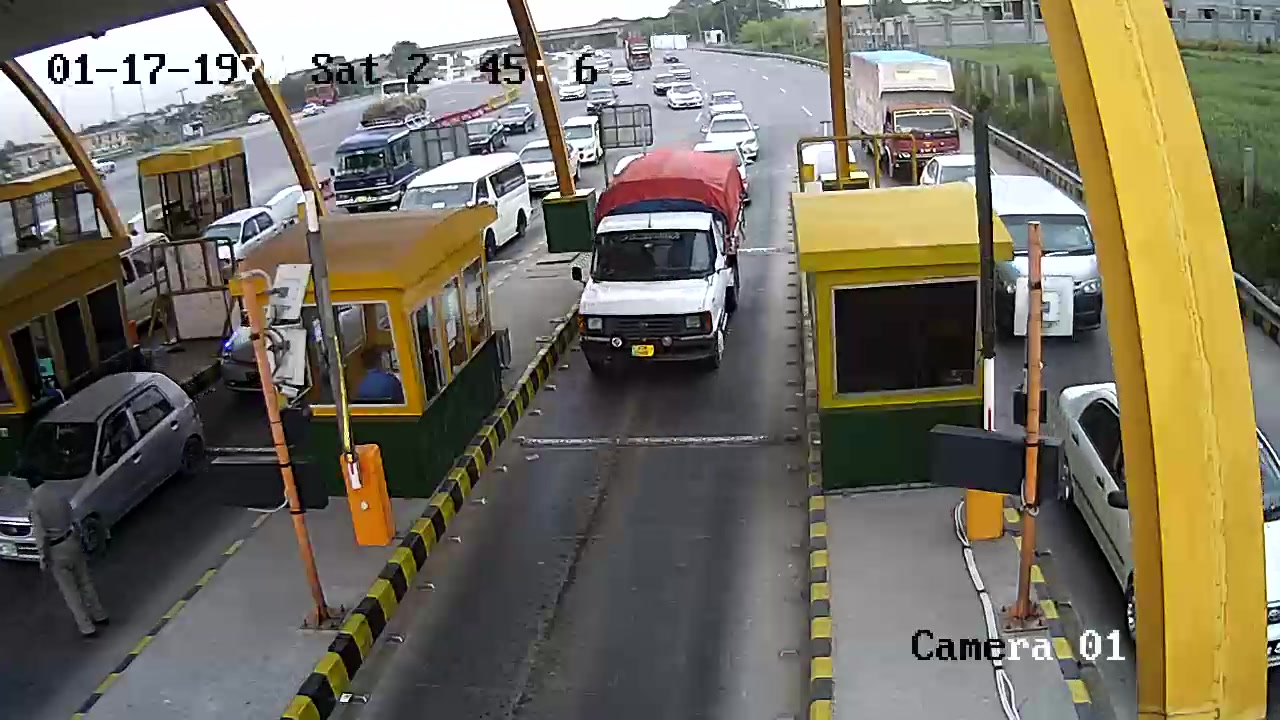F3: (573, 140, 769, 383)
